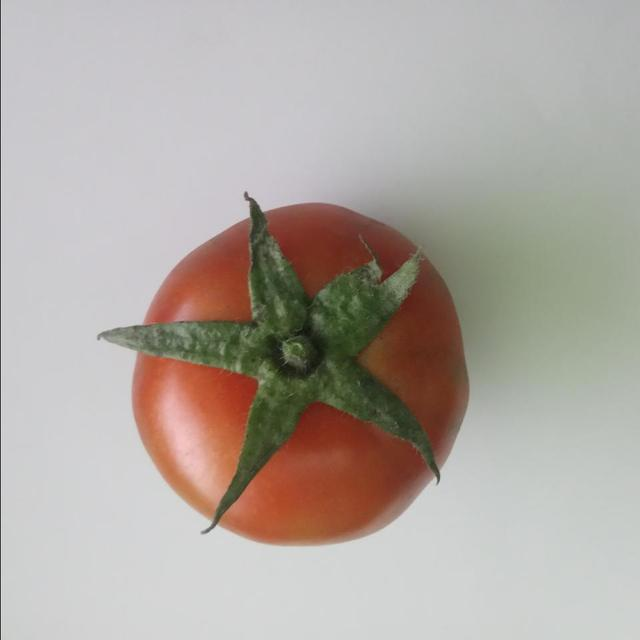Healthy Fruit: (81, 130, 317, 368)
